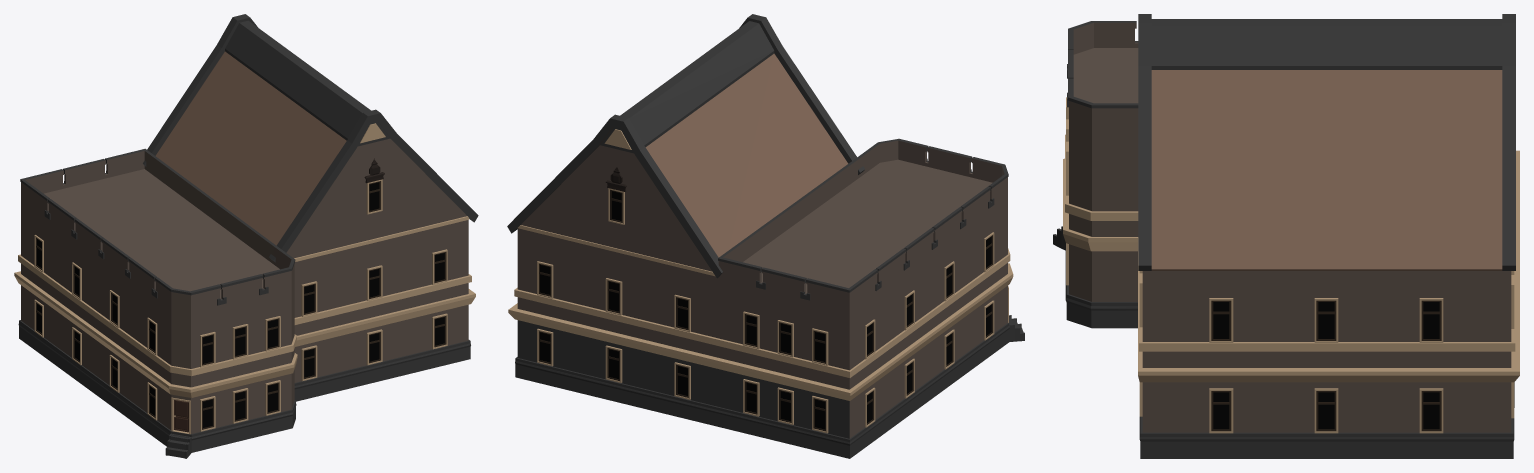
Rendered from SM_HOuse1.fbx.
3 views of the same model, side by side, from view 1: azimuth 30°, elevation 25°; view 2: azimuth 150°, elevation 25°; view 3: azimuth 270°, elevation 25° (orthographic). The views are drawn at different scales.
Visible parts, largest first — view 1: Object002; view 2: Object002; view 3: Object002.
Boxes of the visible parts, x1,y1,x2,y2 form: Object002: (14,14,478,458); Object002: (507,14,1024,458); Object002: (1053,14,1519,458).
Size of the model in its own units: 2410 by 1848 by 2088.
